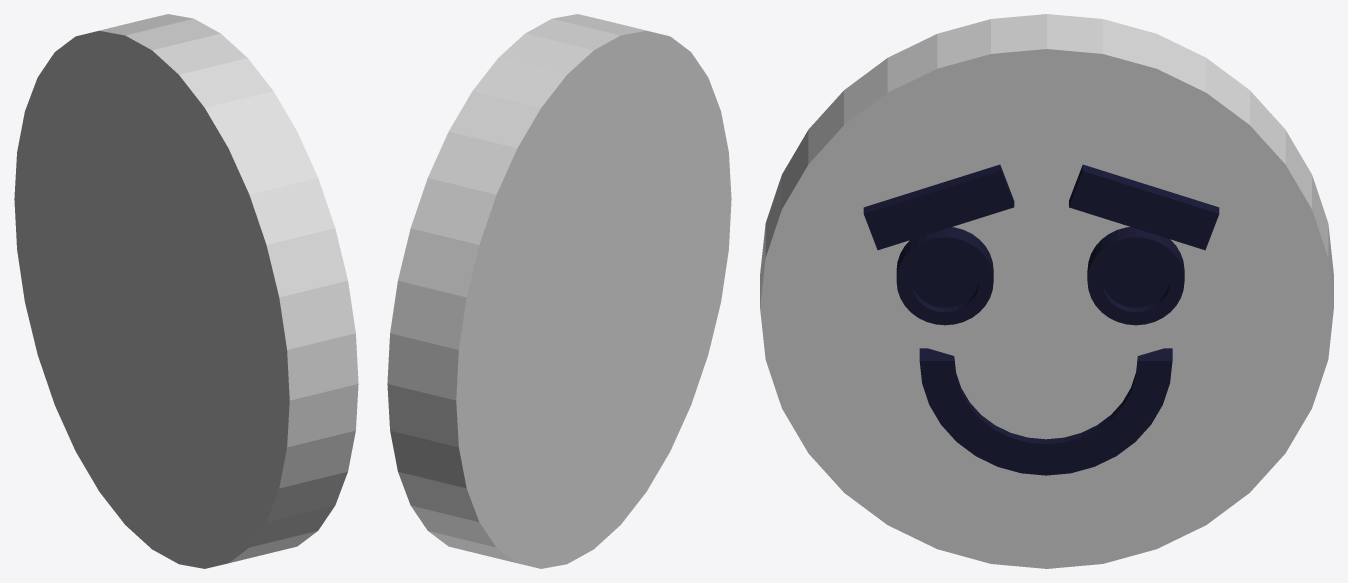
The model's file is boton Accep.fbx.
3 renders of one model, left to right at view 1: azimuth 30°, elevation 25°; view 2: azimuth 150°, elevation 25°; view 3: azimuth 270°, elevation 25°, orthographic. The views are drawn at different scales.
Parts seen in each view (by area): view 1: Circle.004; view 2: Circle.004; view 3: Circle.004, Cube.049, Cylinder.014, Cube.048, Cube.047.
Boxes of the visible parts, box(x1,y1,x2,y2) form: Circle.004: box(14, 14, 358, 568); Circle.004: box(387, 14, 731, 568); Circle.004: box(760, 14, 1333, 568); Cube.049: box(863, 164, 1219, 250); Cylinder.014: box(919, 348, 1172, 475); Cube.048: box(1087, 227, 1184, 325); Cube.047: box(896, 227, 993, 325).
Size of the model in its own units: 19.74 by 100 by 100.
